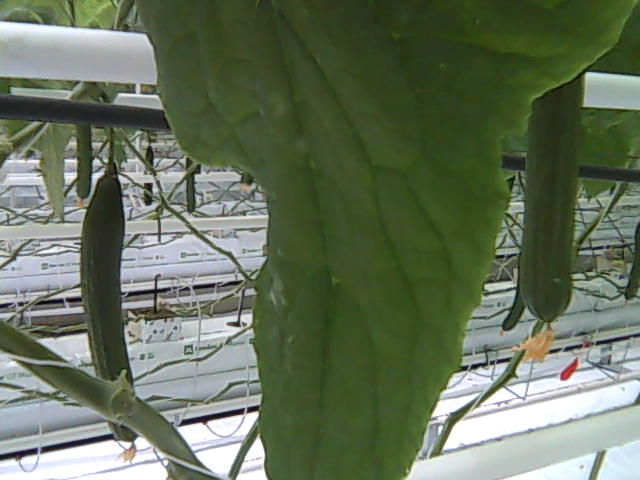concombre: (516, 65, 587, 371), (79, 155, 143, 467)
